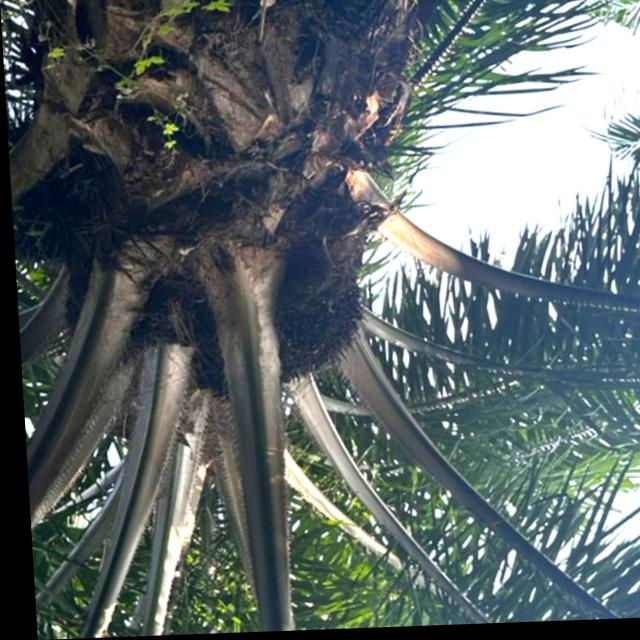unripe: (217, 247, 366, 395)
